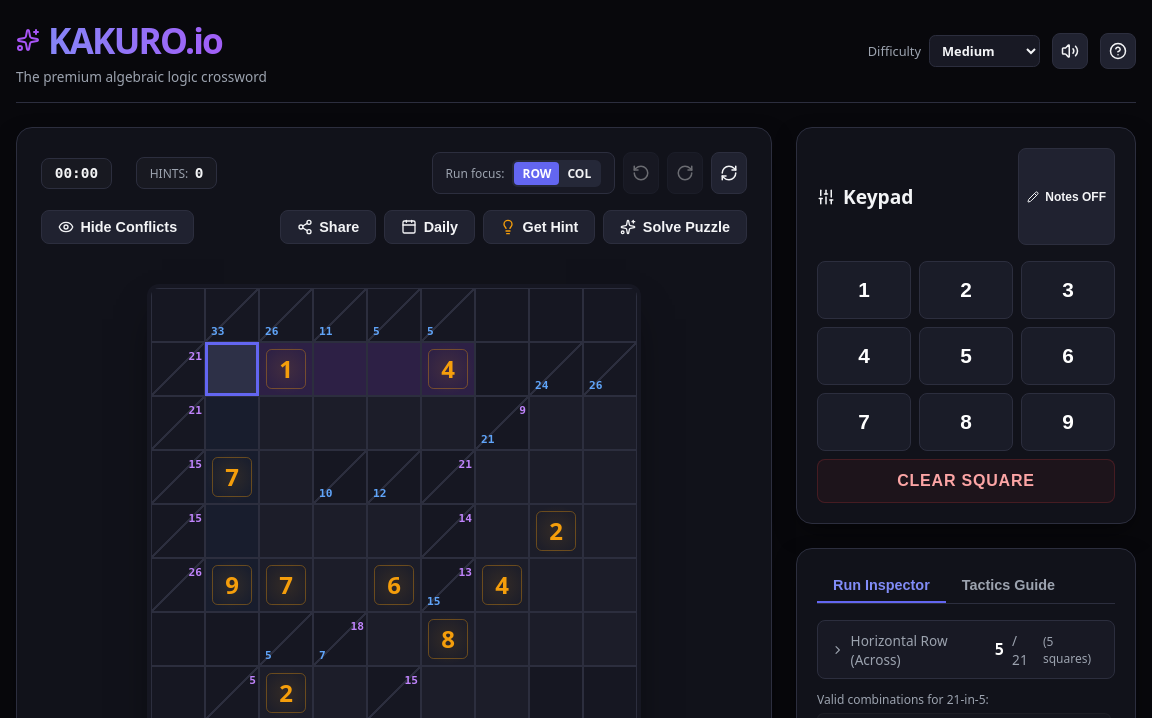
Test: App integration › opens the rules dialog and closes it with Escape
Click the button named "How to play" at [1118, 51], box [1100, 33, 1136, 69]
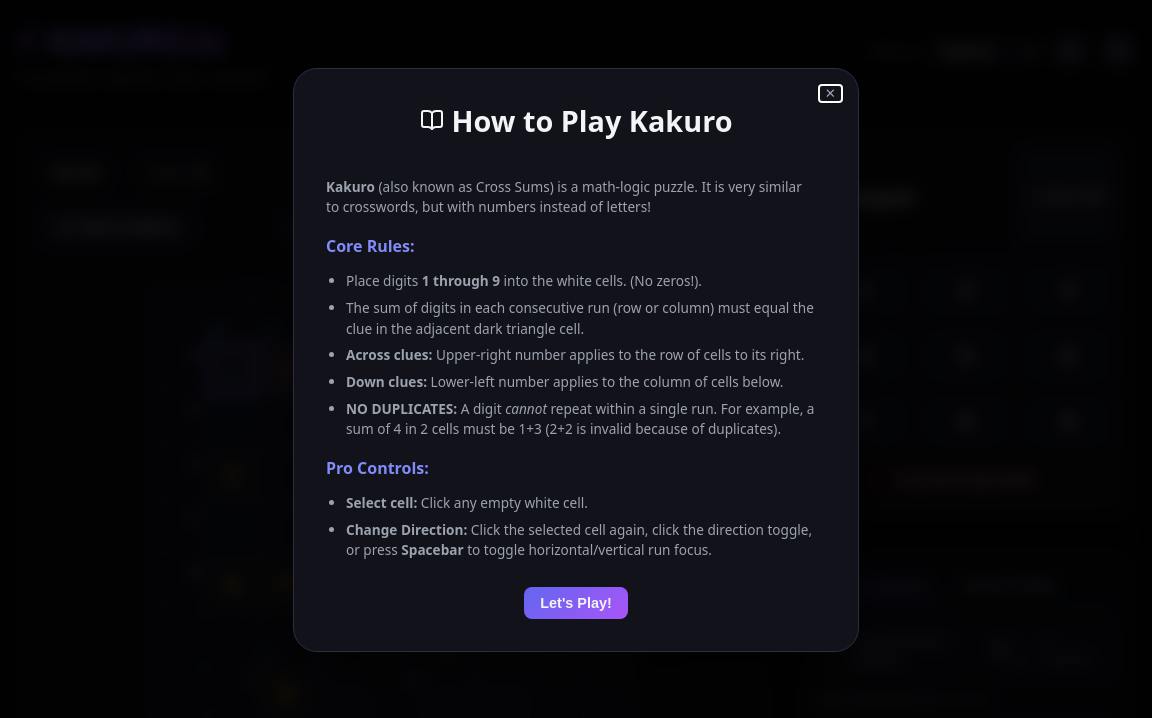
Result: the heading "How to Play Kakuro" is shown at [420, 100, 732, 140]
Press Escape
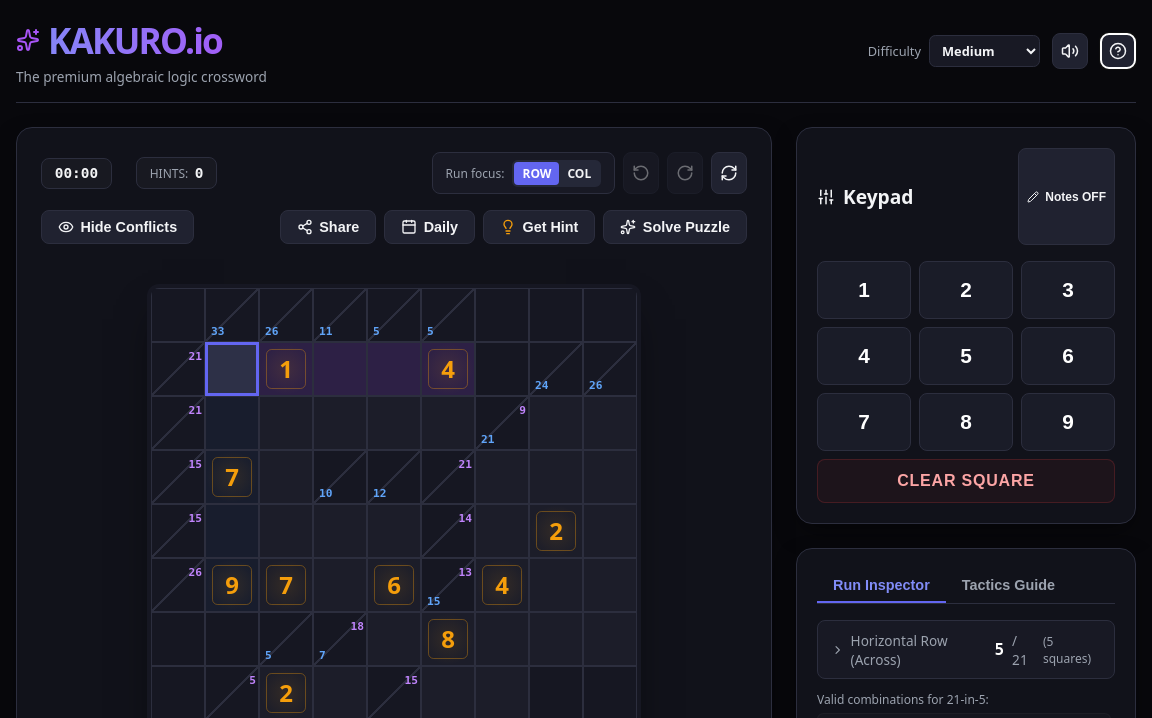
Result: the dialog is gone
